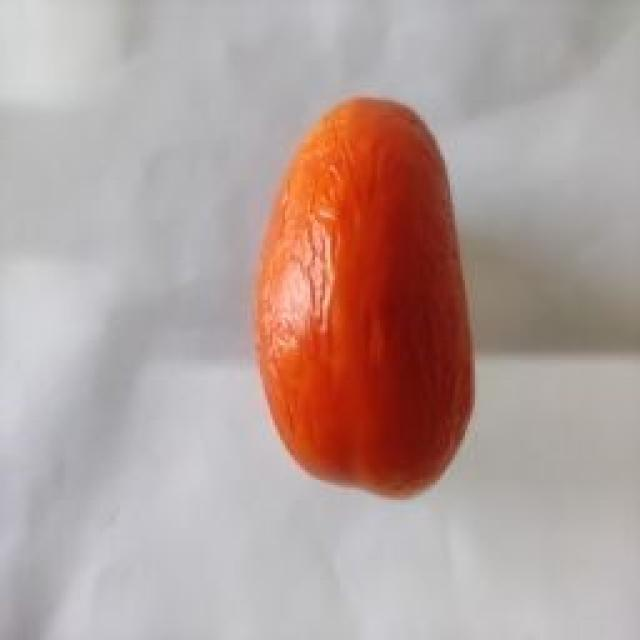overripe: (254, 91, 484, 500)
